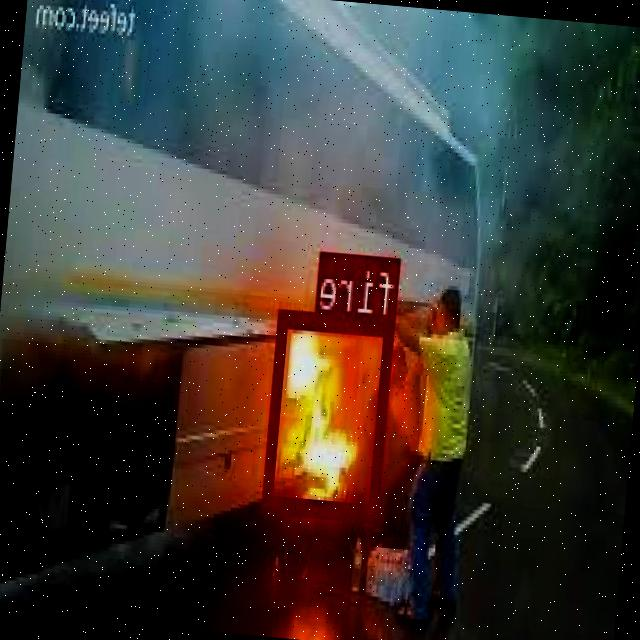fire: (263, 308, 396, 520)
